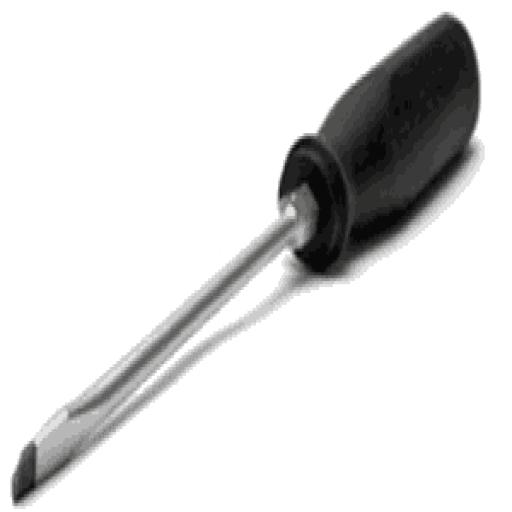screwdriver: (12, 12, 480, 498)
